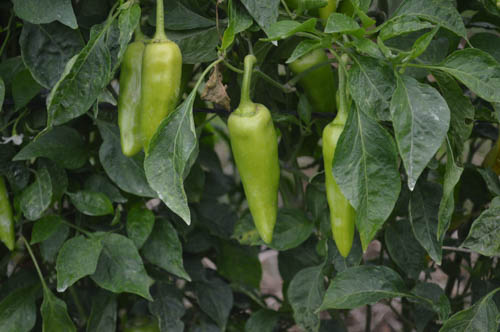ChiliPepper: (232, 107, 278, 242), (143, 41, 185, 148), (324, 121, 356, 259), (118, 43, 146, 160), (295, 51, 334, 114)
